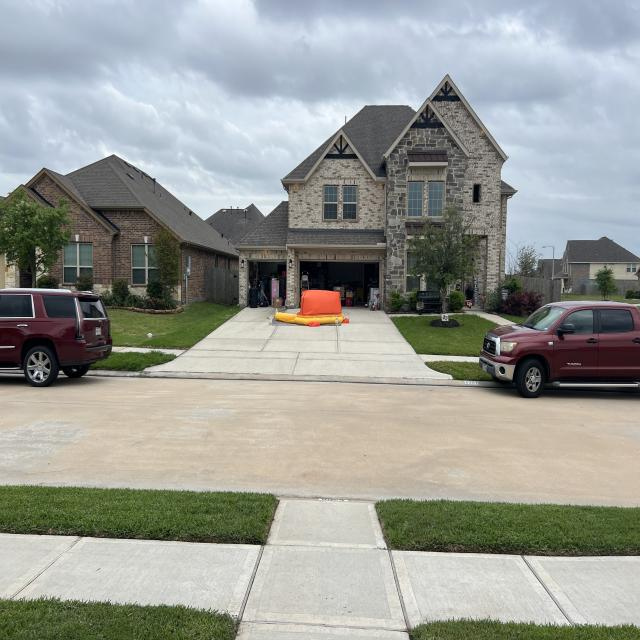Multi-person_life_raft: (274, 289, 349, 328)
